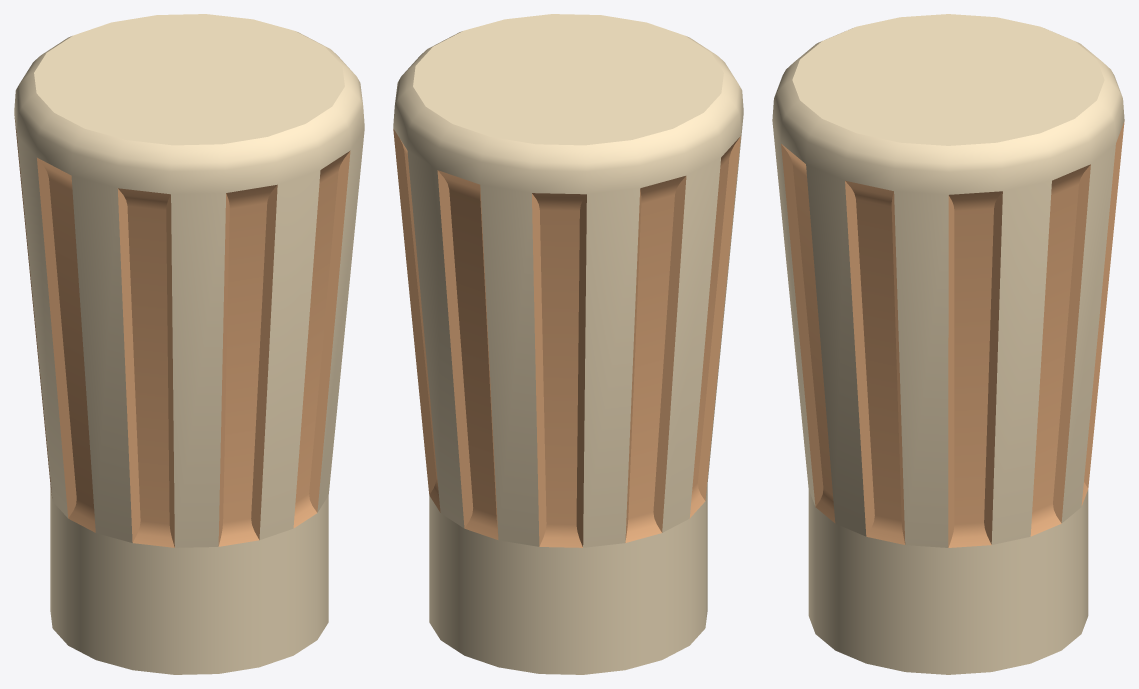
The model's file is chefhat.fbx.
The picture shows the model from 3 angles, left to right: view 1: azimuth 30°, elevation 25°; view 2: azimuth 150°, elevation 25°; view 3: azimuth 270°, elevation 25°; orthographic projection.
Visible parts, largest first — view 1: chef_hat; view 2: chef_hat; view 3: chef_hat.
Boxes of the visible parts, left/top/right/bottom form: chef_hat: left=14, top=14, right=364, bottom=674; chef_hat: left=393, top=14, right=743, bottom=674; chef_hat: left=772, top=14, right=1124, bottom=674.
Size of the model in its own units: 80.05 by 134 by 80.05.
